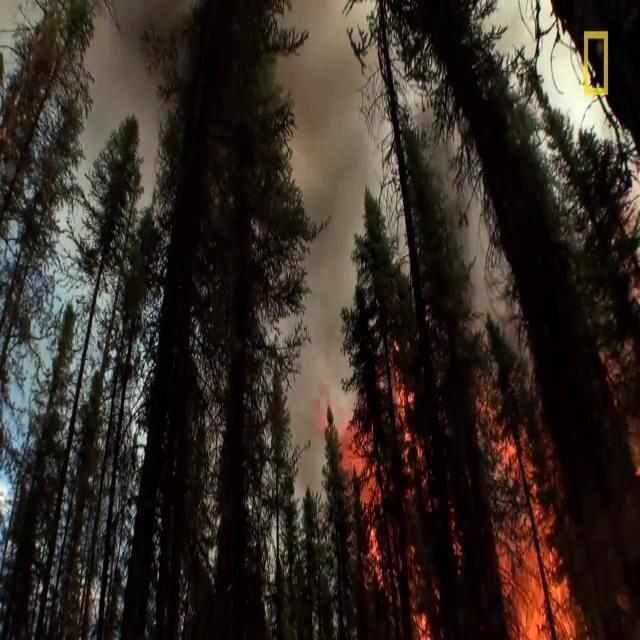Fire: (329, 347, 576, 638)
Smoke: (423, 103, 550, 301), (288, 14, 371, 291), (92, 15, 189, 189)
